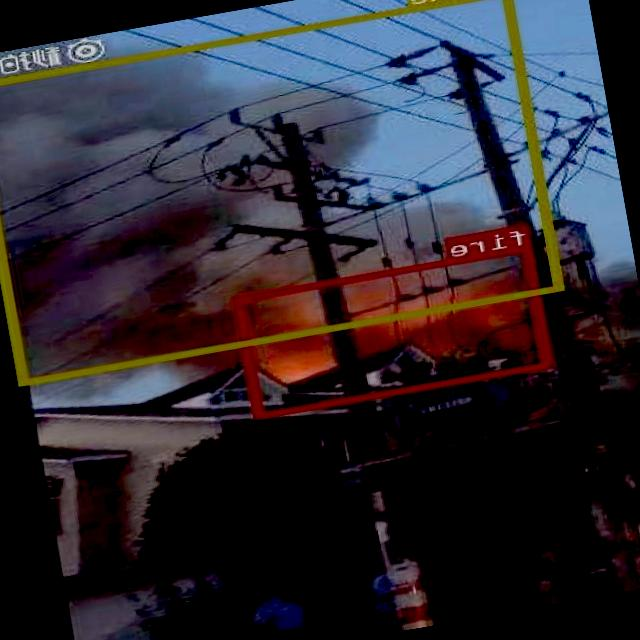fire: (235, 242, 554, 418)
smoke: (0, 0, 565, 384)
